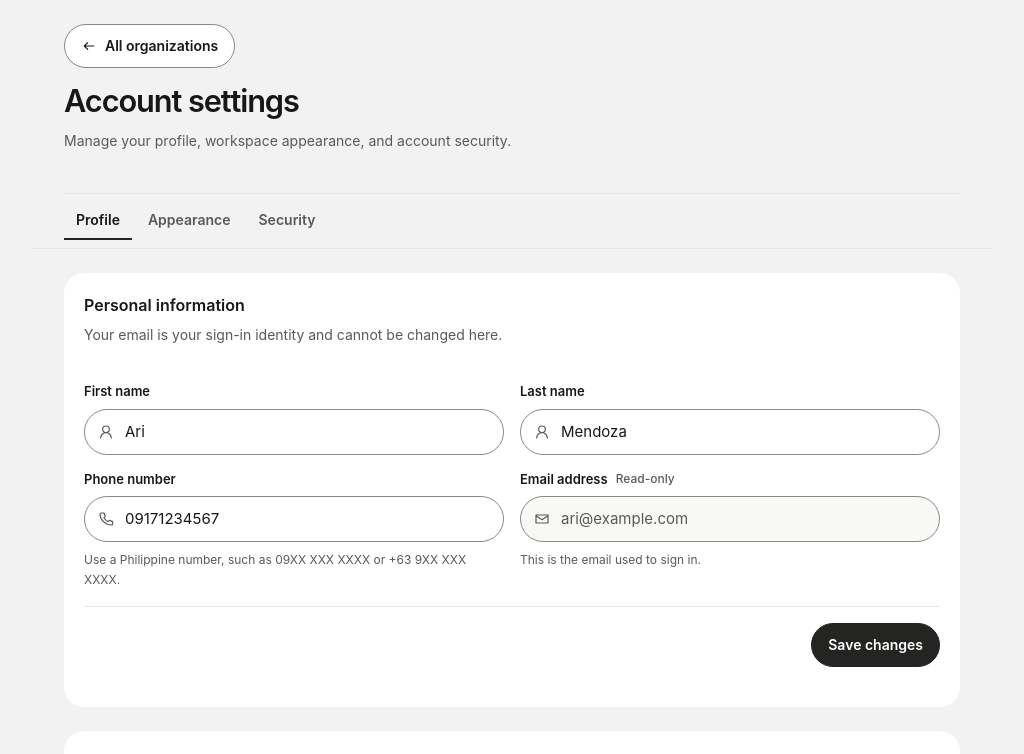
Test: AccountSettings › preserves profile values and saves normalized data with success feedback
Replace the text in the field labelled "First name" with " Arianna " at (294, 432), box [84,409,504,455]
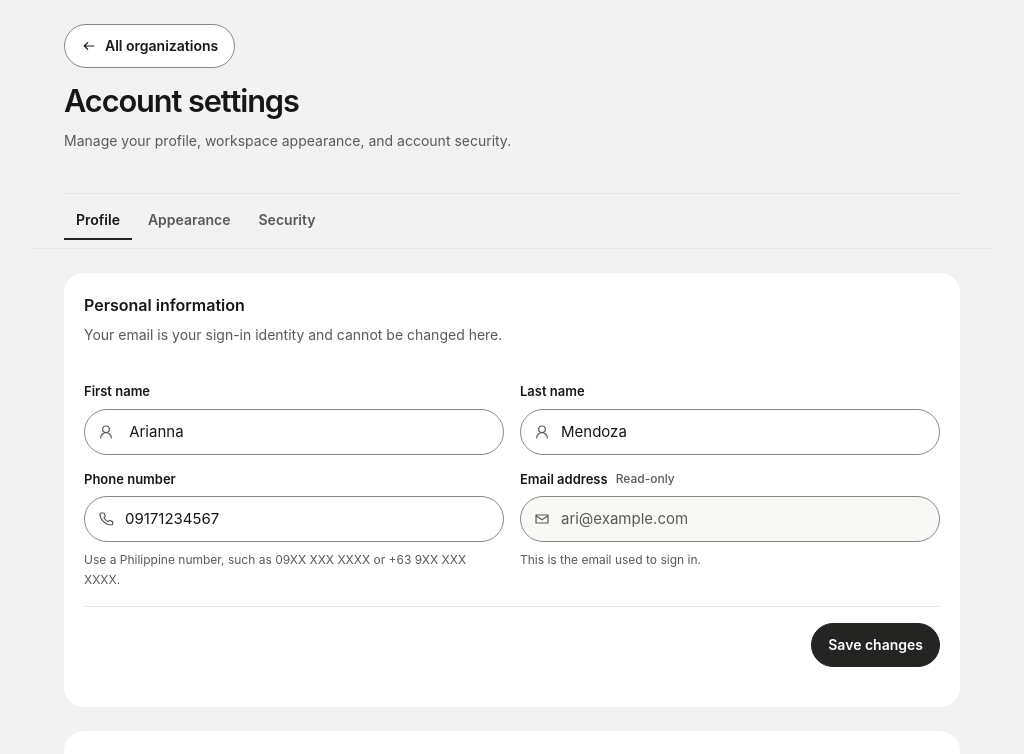
Submit the form named "Personal information", box [84,363,940,687]
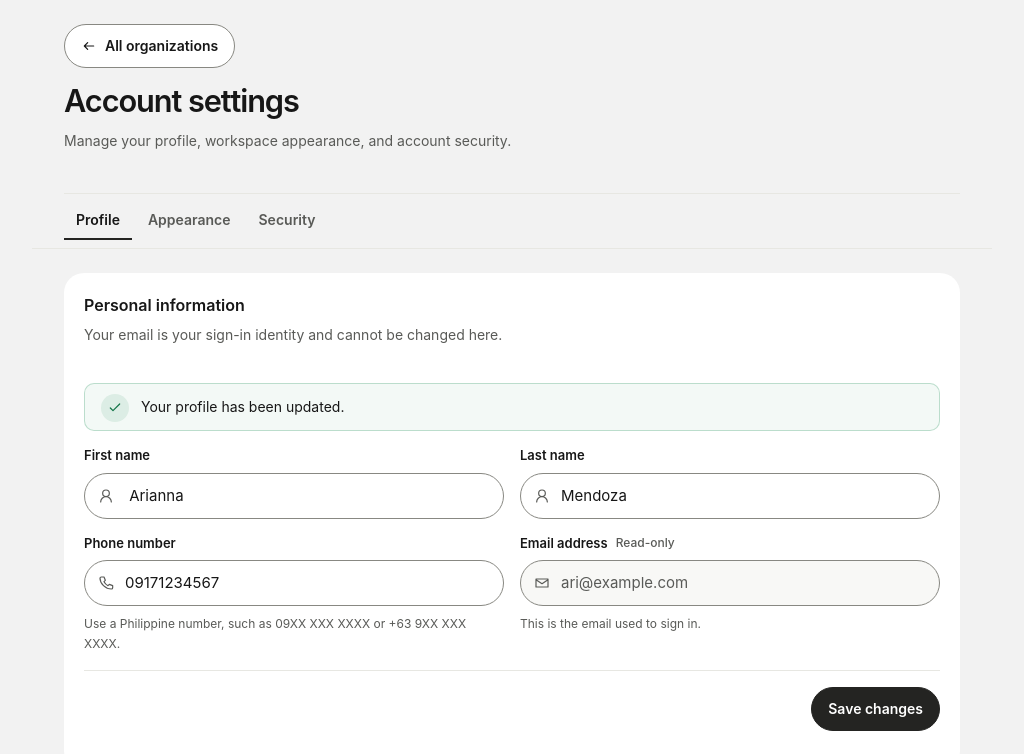
Now the message reads "Your profile has been updated.", box [141,398,344,415]
